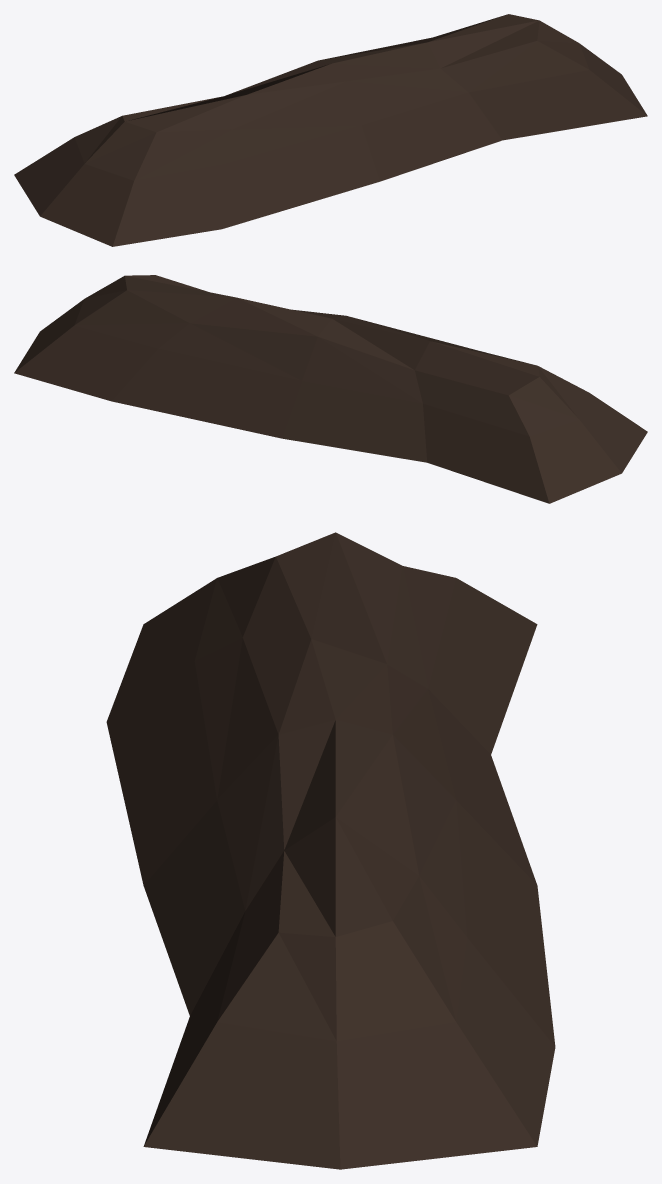
Rendered from synty-terrain-dustpile-long-01.gltf.
The picture shows the model from 3 angles, top to bottom: view 1: azimuth 30°, elevation 25°; view 2: azimuth 150°, elevation 25°; view 3: azimuth 270°, elevation 25°; orthographic projection. The views are drawn at different scales.
Parts seen in each view (by area): view 1: SM_Terrain_DustPile_Long_01; view 2: SM_Terrain_DustPile_Long_01; view 3: SM_Terrain_DustPile_Long_01.
Boxes of the visible parts, x1,y1,x2,y2 form: SM_Terrain_DustPile_Long_01: [14, 14, 647, 246]; SM_Terrain_DustPile_Long_01: [14, 275, 647, 503]; SM_Terrain_DustPile_Long_01: [106, 532, 555, 1169].
Bounding box in the file's own units: 1.98 × 0.2702 × 0.6624.
1 material, 1 textured.
